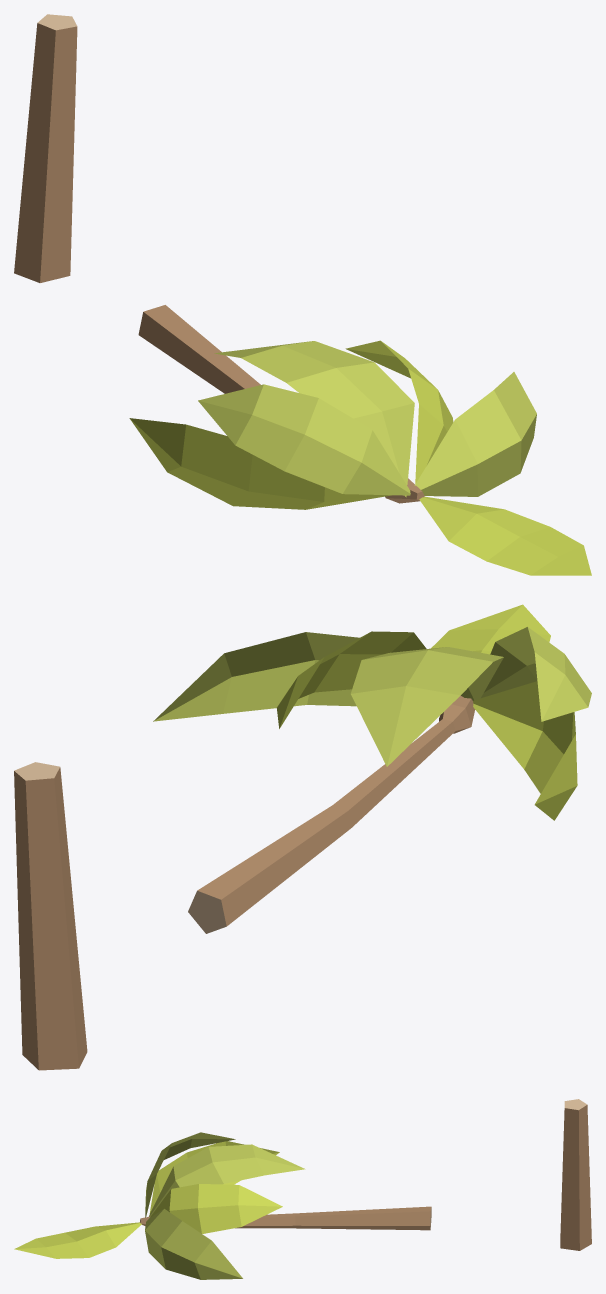
File: Palm_Tree_crk_m_01_LOD.fbx
3 renders of one model, top to bottom at view 1: azimuth 30°, elevation 25°; view 2: azimuth 150°, elevation 25°; view 3: azimuth 270°, elevation 25°, orthographic. The views are drawn at different scales.
Visible parts, largest first — view 1: Palm_Tree_crk_m_01_LOD0; view 2: Palm_Tree_crk_m_01_LOD0; view 3: Palm_Tree_crk_m_01_LOD0.
Boxes of the visible parts, x1,y1,x2,y2 form: Palm_Tree_crk_m_01_LOD0: (14, 14, 591, 575); Palm_Tree_crk_m_01_LOD0: (14, 604, 591, 1070); Palm_Tree_crk_m_01_LOD0: (14, 1099, 591, 1279).
Size of what is drawn, in the model's own units: 326 by 211 by 766.
